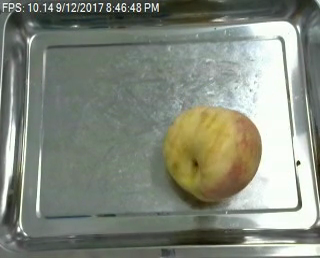Peach: (163, 104, 262, 201)
